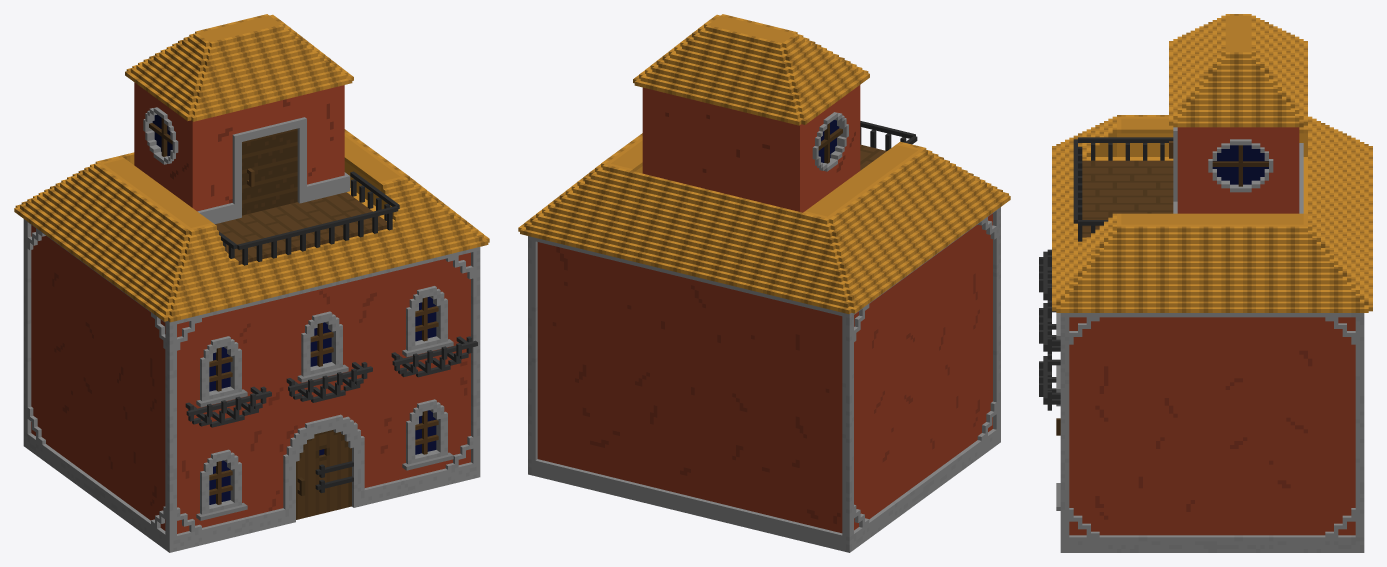
File: MiddleAgesHoume9.obj
3 renders of one model, left to right at view 1: azimuth 30°, elevation 25°; view 2: azimuth 150°, elevation 25°; view 3: azimuth 270°, elevation 25°, orthographic. The views are drawn at different scales.
Size of the model in its own units: 9 by 11.2 by 7.7.
Materials: 1 (1 with a texture image).
